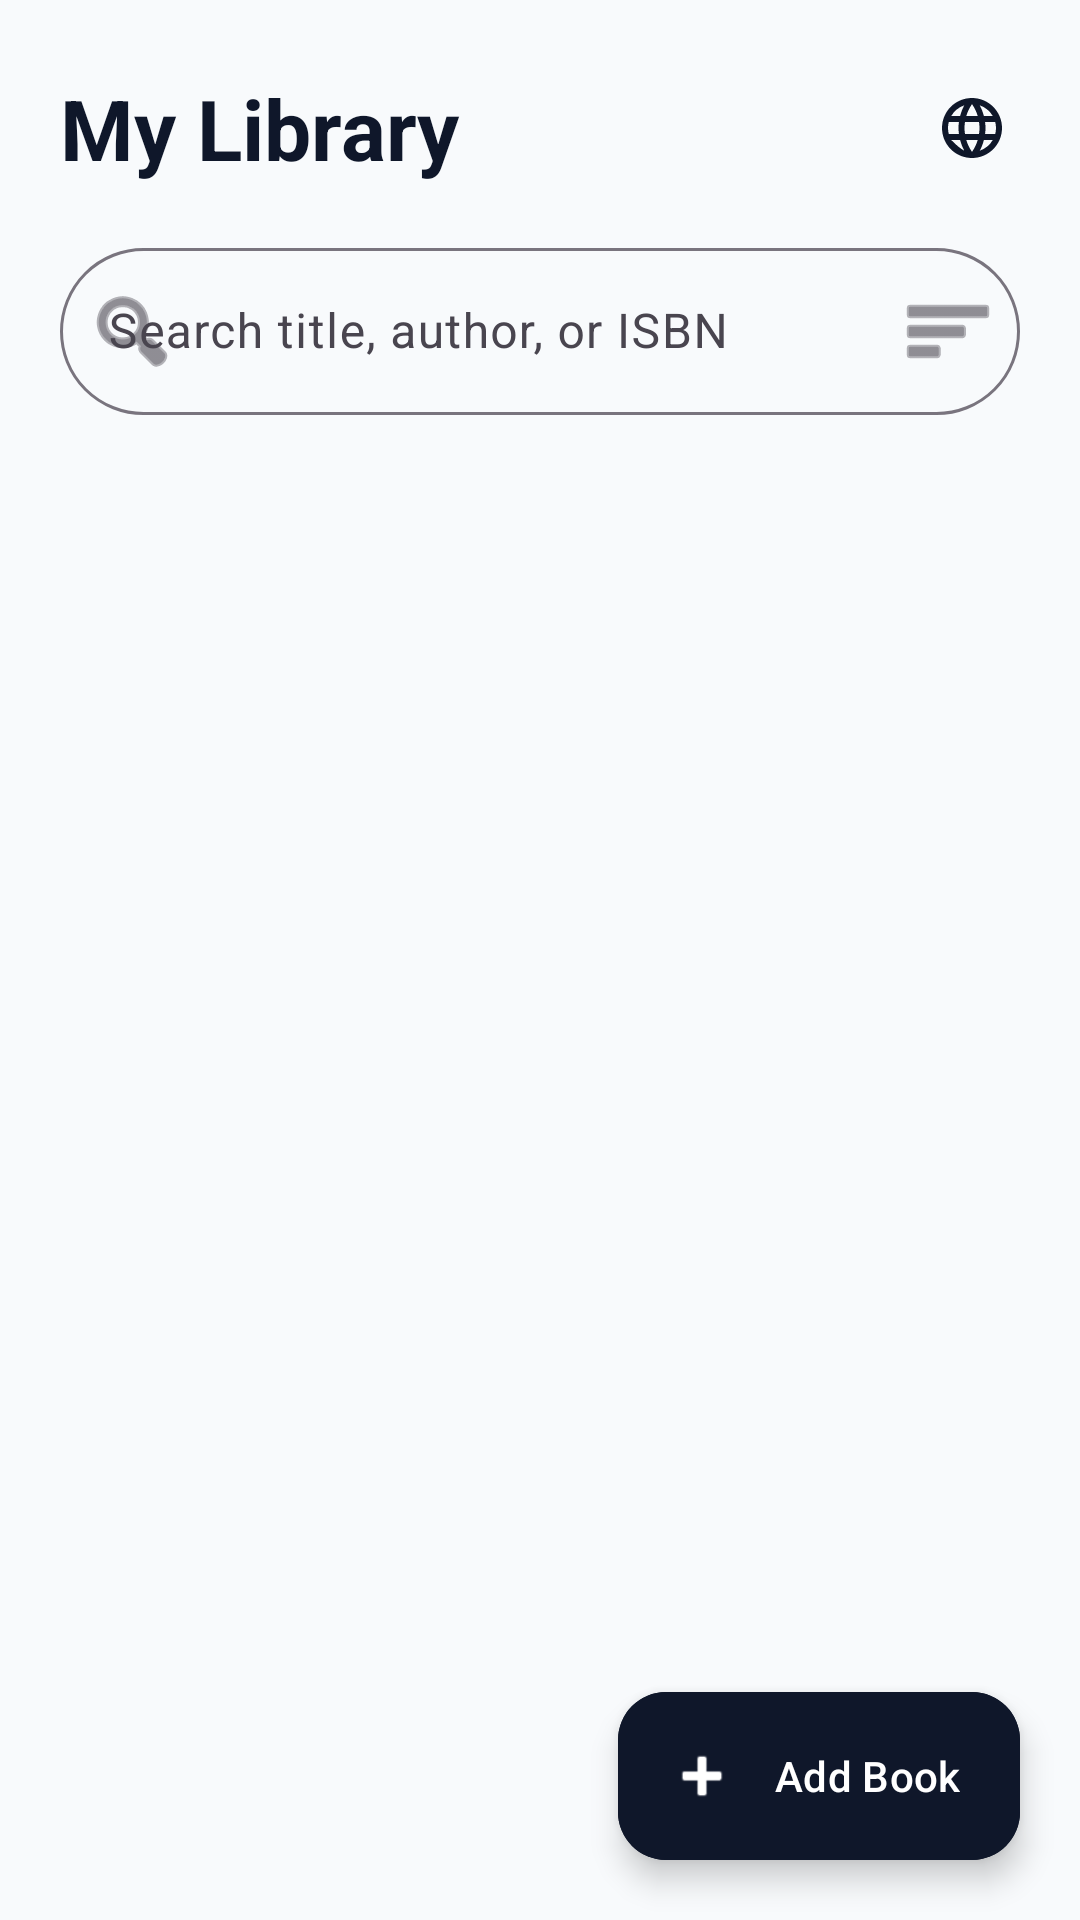

Named icons in this screenshot (1080px×1920px) and their centers, (x=x, y=y):
Змяніць мову: (x=972, y=128)
